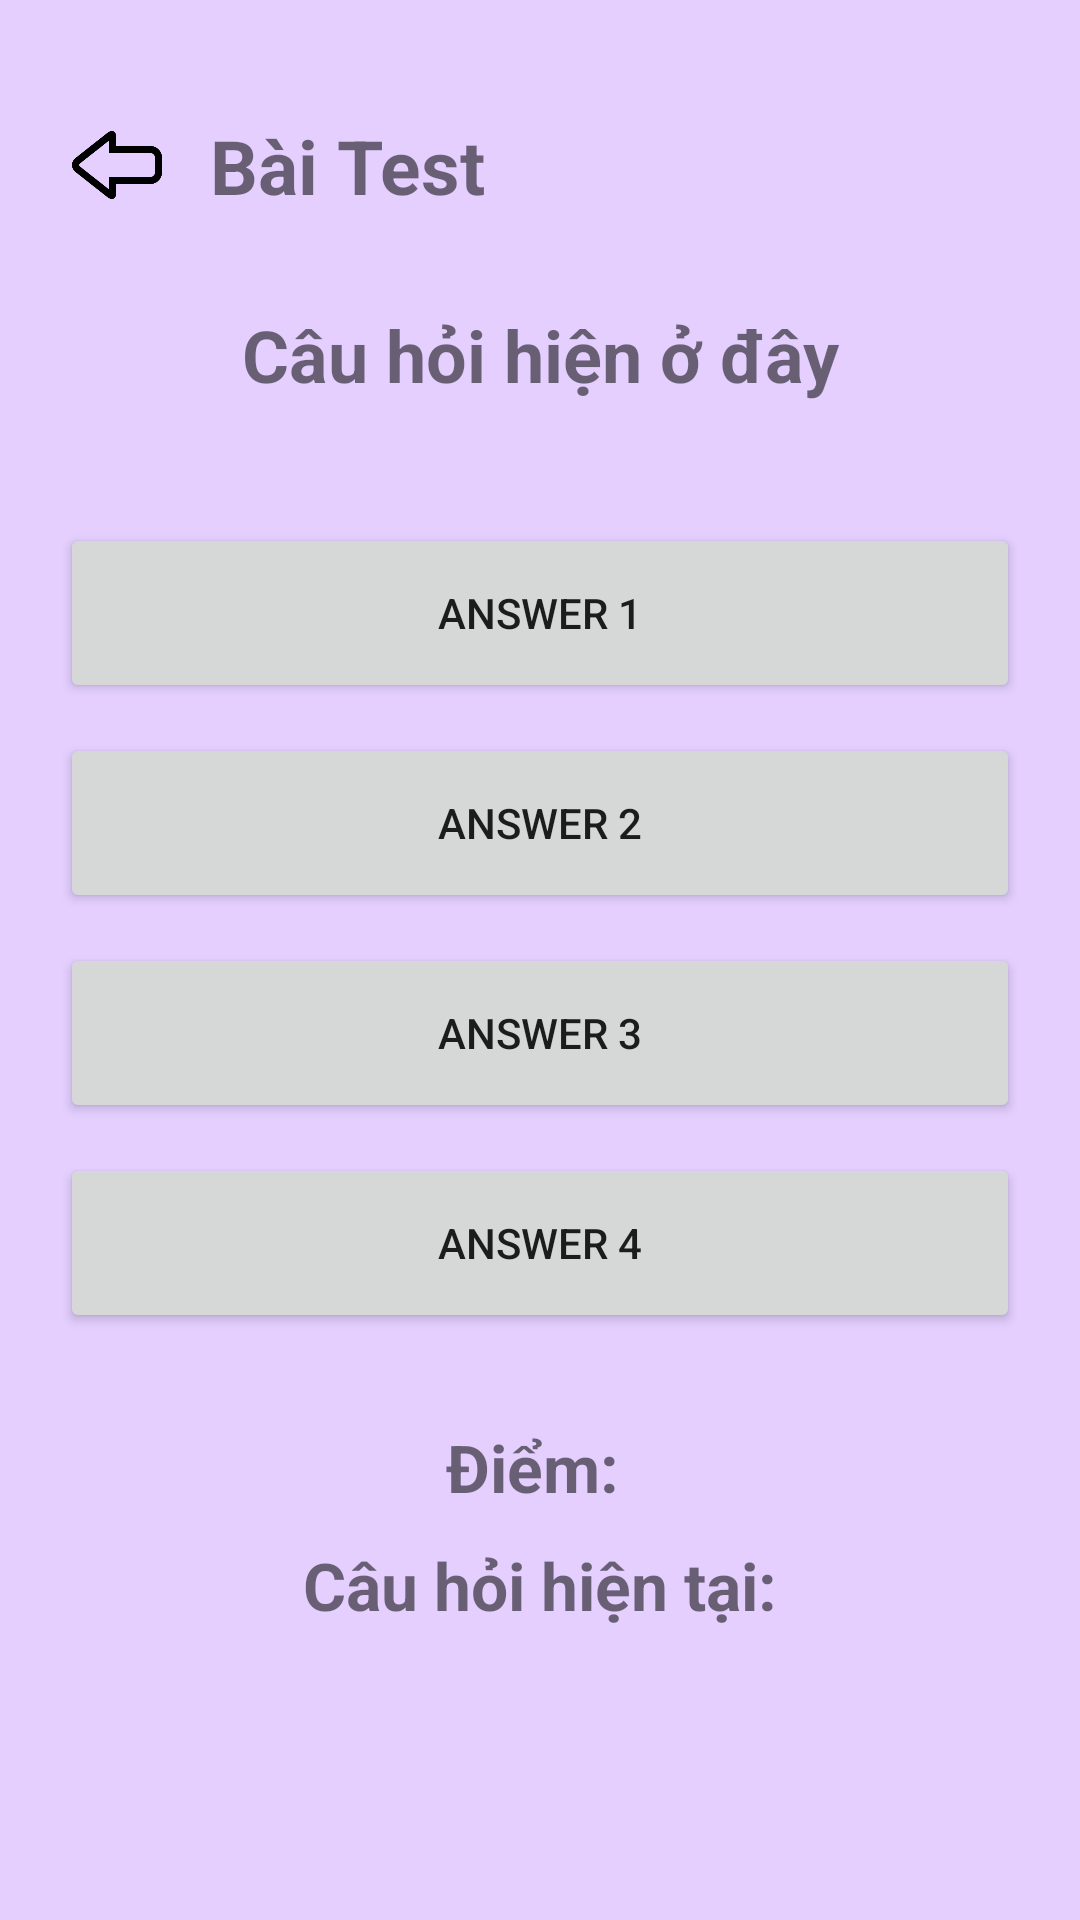

Icon click points for this 1080 × 1920 phone screenshot, format (x,y):
backicon: (117,165)
